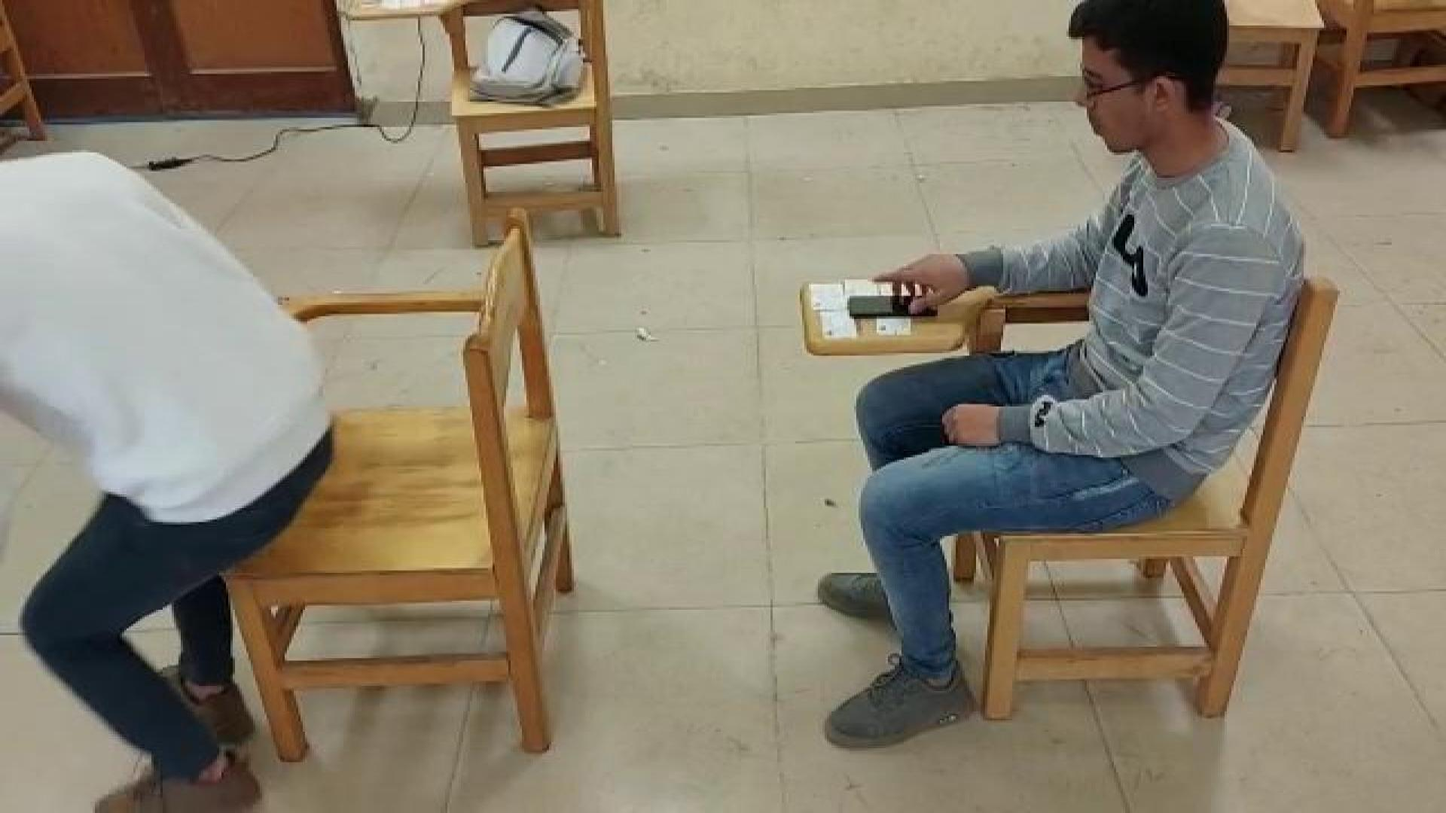phone: (845, 286, 947, 321)
